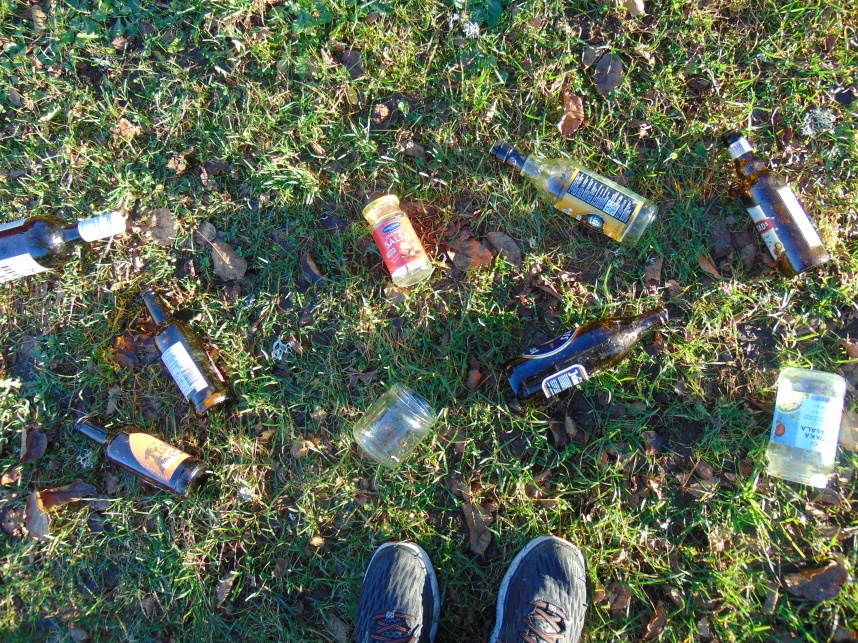glass_bottle: (487, 139, 658, 247), (502, 307, 665, 414), (723, 125, 829, 278), (72, 414, 210, 505), (137, 279, 231, 412), (765, 365, 846, 488), (1, 210, 126, 283), (352, 381, 435, 464), (365, 190, 432, 288)
